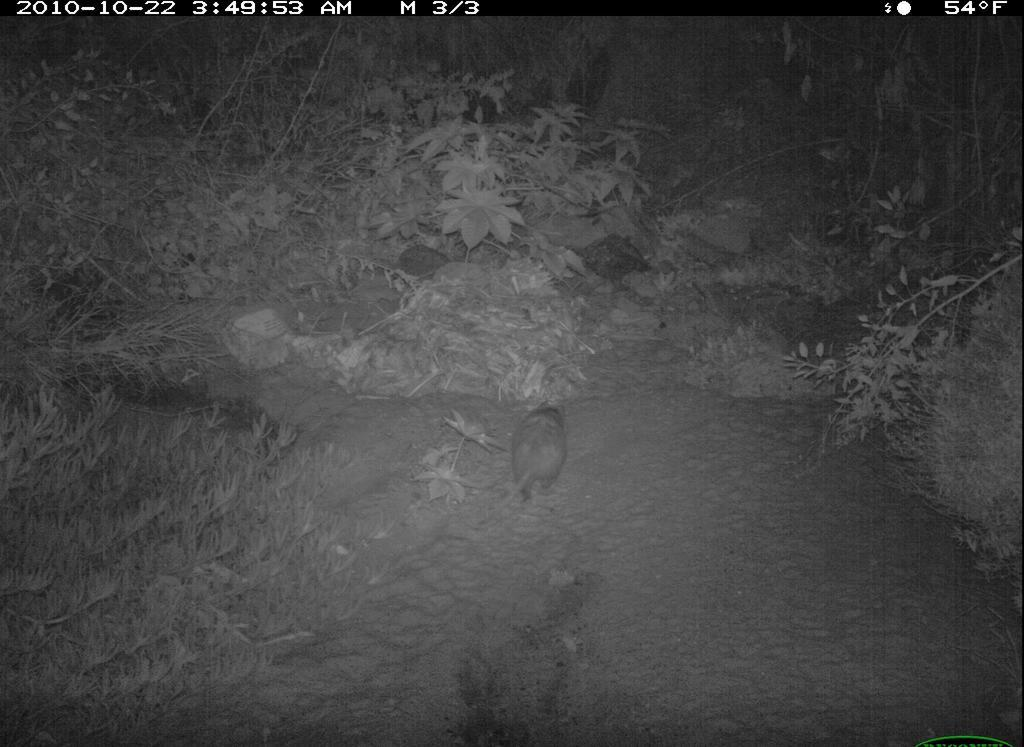opossum: (479, 392, 573, 523)
